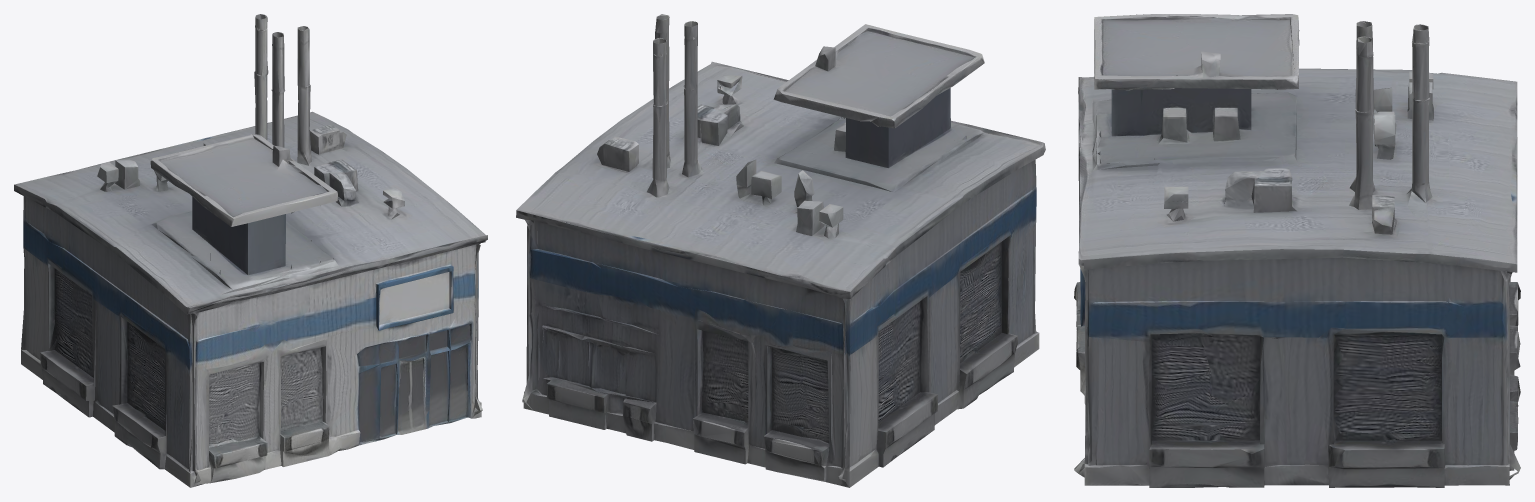
File: empresa_f2.glb
The picture shows the model from 3 angles, left to right: view 1: azimuth 30°, elevation 25°; view 2: azimuth 150°, elevation 25°; view 3: azimuth 270°, elevation 25°; orthographic projection. The views are drawn at different scales.
Parts seen in each view (by area): view 1: tripo_node_311bc03b-d857-42bf-81bc-aeefa238adc8; view 2: tripo_node_311bc03b-d857-42bf-81bc-aeefa238adc8; view 3: tripo_node_311bc03b-d857-42bf-81bc-aeefa238adc8.
Part boxes in pixels (box(x1,y1,x2,y2)): tripo_node_311bc03b-d857-42bf-81bc-aeefa238adc8: box(14, 14, 487, 487); tripo_node_311bc03b-d857-42bf-81bc-aeefa238adc8: box(516, 14, 1045, 487); tripo_node_311bc03b-d857-42bf-81bc-aeefa238adc8: box(1074, 14, 1520, 487).
Bounding box in the file's own units: 0.9982 × 0.9998 × 0.9988.
1 material, 1 textured.
